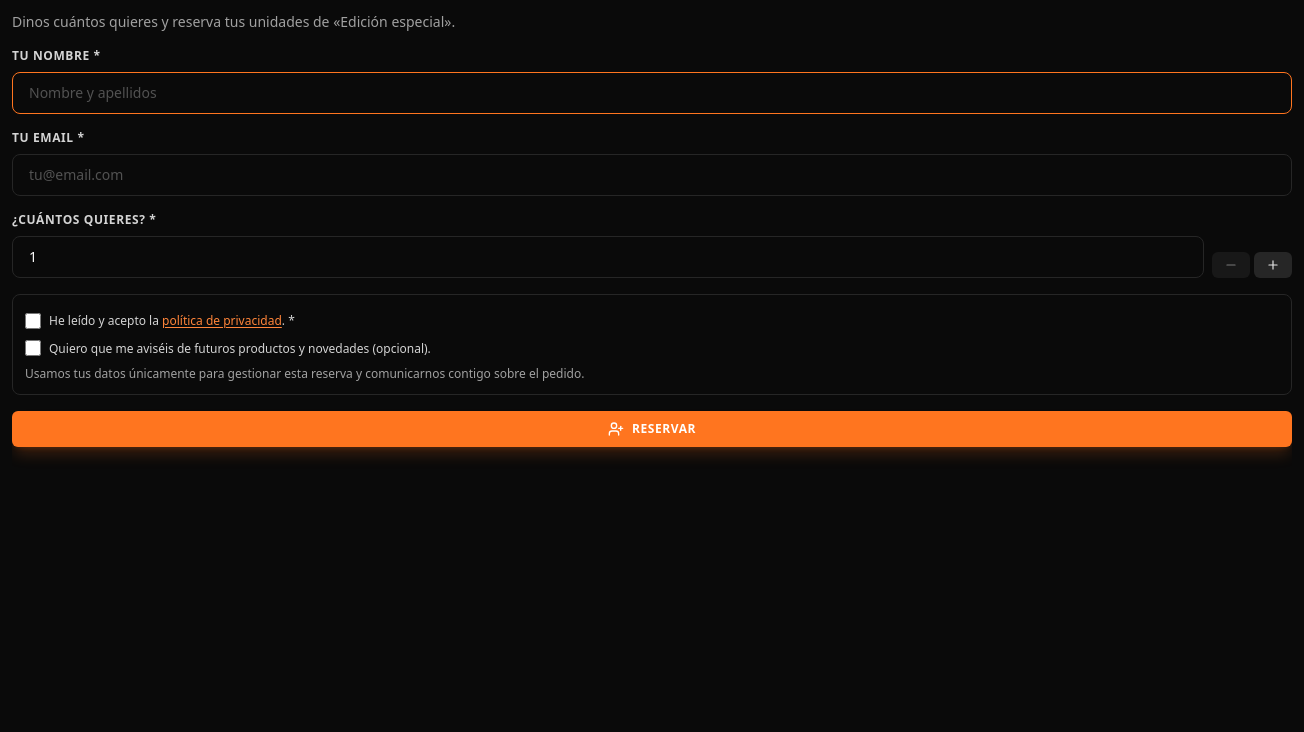
Scenario: WorkshopSignupForm · unidades en especiales › bloquea una cantidad de cero unidades
In the field labelled "Tu nombre *": (652, 93) [12,72,1292,114], type "Ana"
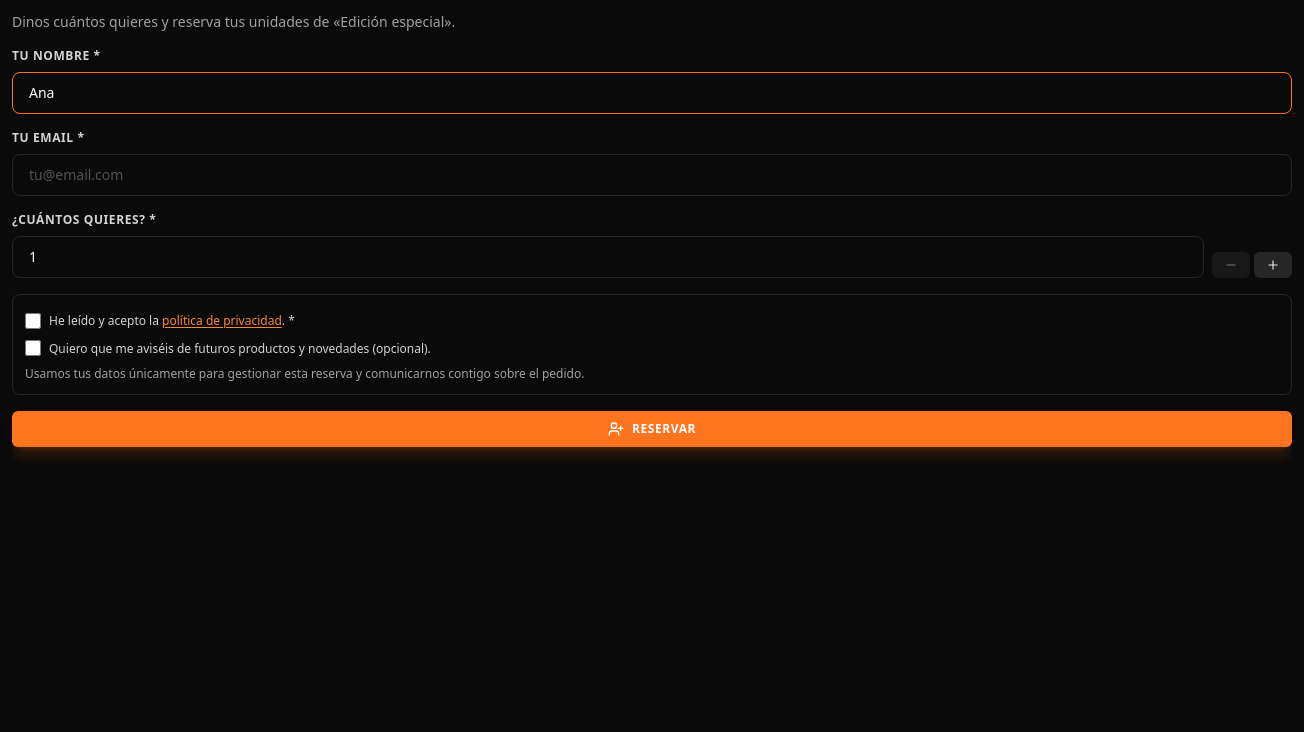
In the field labelled "Tu email *": (652, 175) [12,154,1292,196], type "ana@example.com"
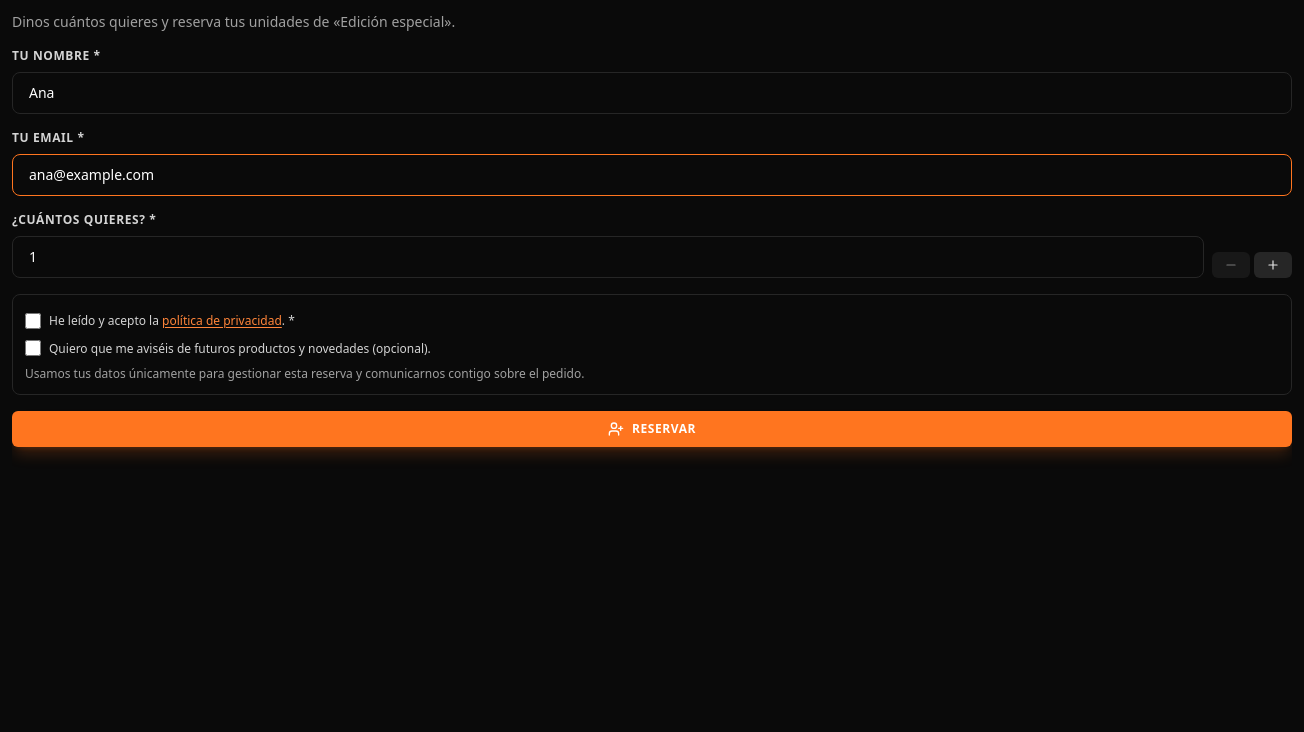
Replace the text in the number field labelled "¿Cuántos quieres? *" with "0": (608, 257) [12,236,1204,278]
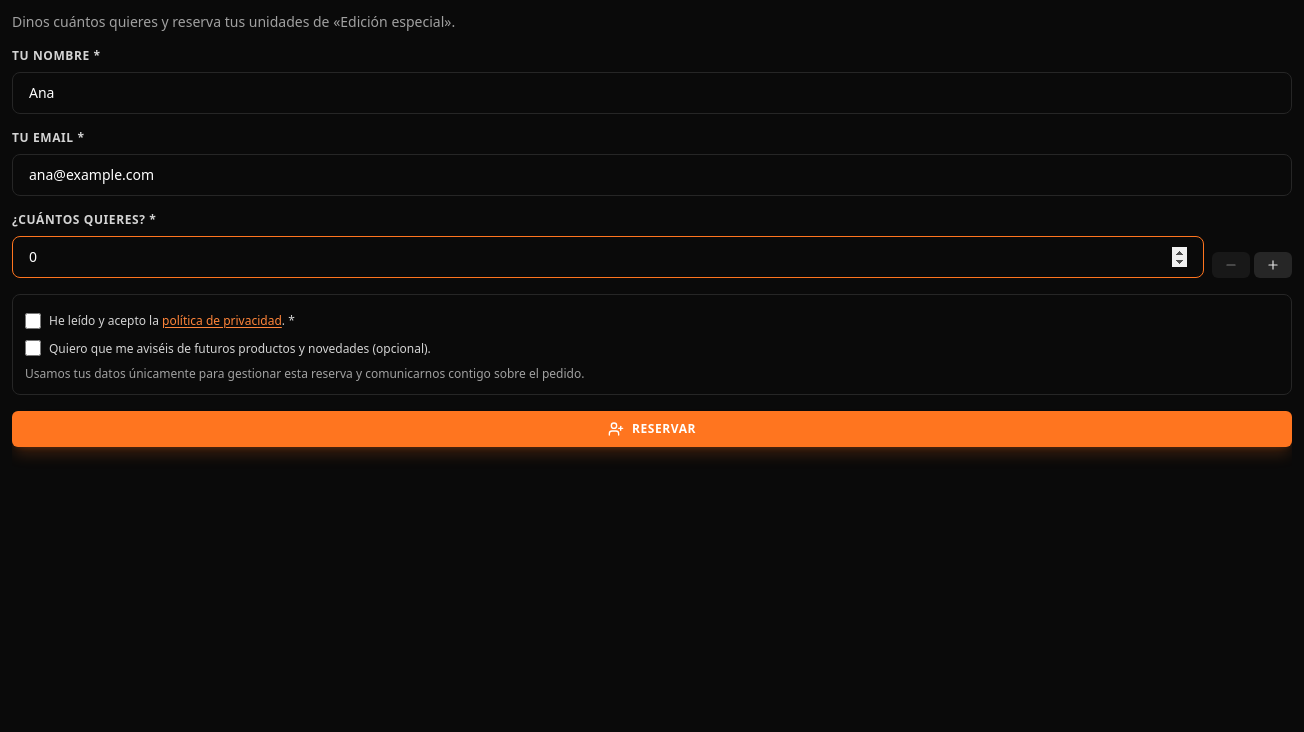
Click the checkbox labelled "He leído y acepto la política de privacidad . *": (33, 321) [25,313,41,329]
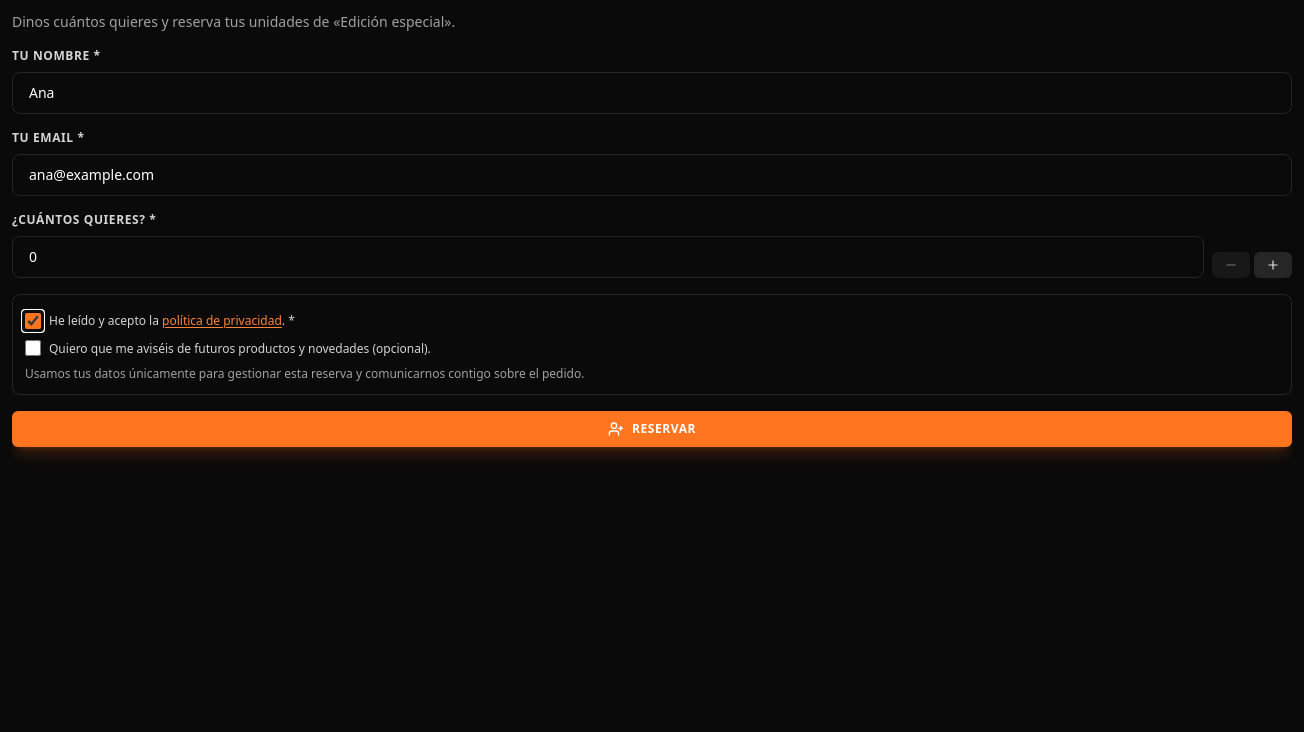
Click the button "Reservar": (652, 429) [12,411,1292,447]
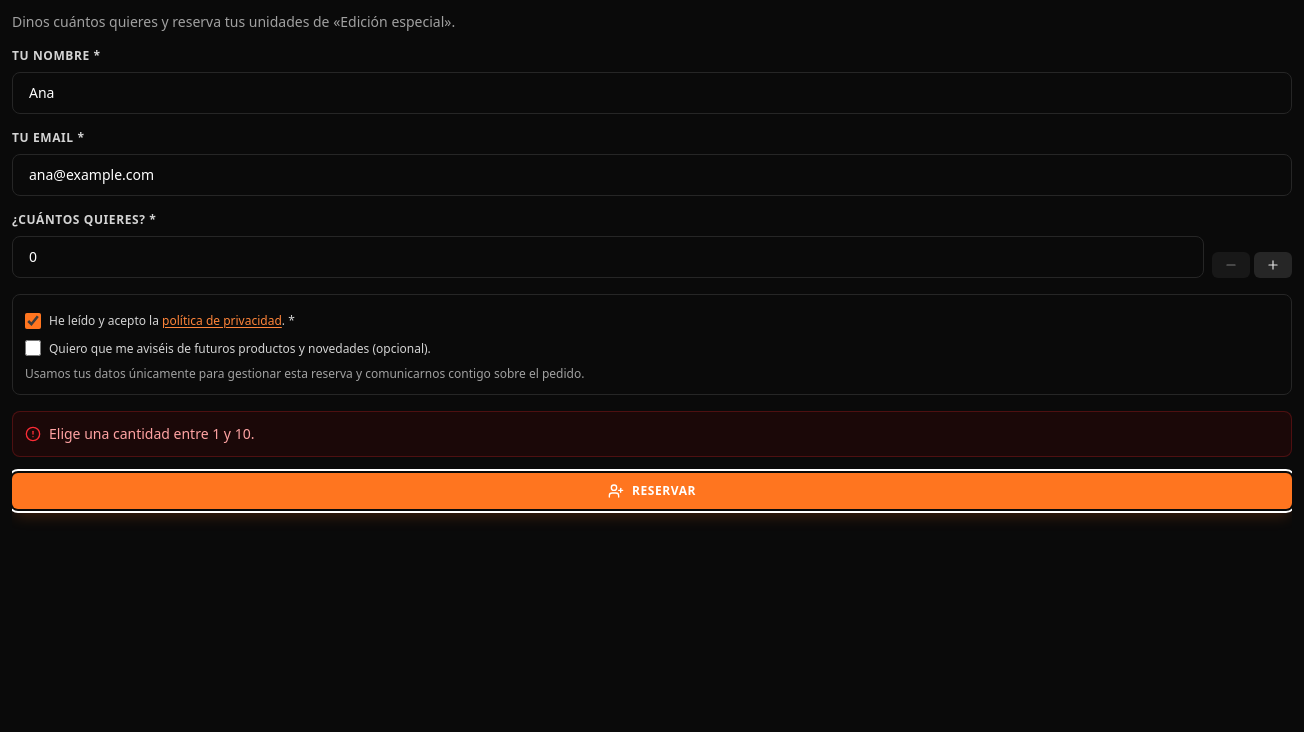
Now the text "Elige una cantidad entre 1 y 10." is shown, box [49,424,254,444]
